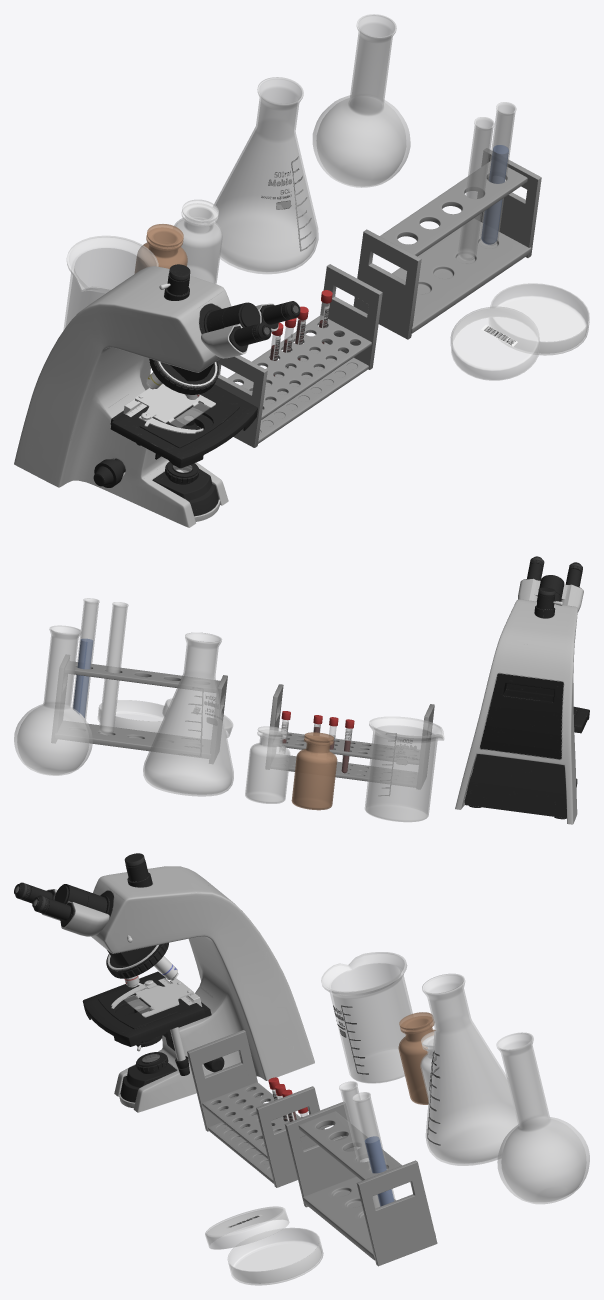
File: slide-9-3.glb
The picture shows the model from 3 angles, top to bottom: view 1: azimuth 30°, elevation 25°; view 2: azimuth 150°, elevation 25°; view 3: azimuth 270°, elevation 25°; orthographic projection. The views are drawn at different scales.
Parts seen in each view (by area): view 1: Body, Test_Tube_Holder, Conical_Flask, Small_TestTube_Stand, Florence_Flask, Plates, Petri_Dish.001, Petri_Dish.002, Beaker, White_Jar, Test_Tubes.001, Test_Tubes.002 (+11 smaller); view 2: Body, Conical_Flask, Florence_Flask, Beaker, Test_Tube_Holder, Behind, Small_TestTube_Stand, Brown_Jar, White_Jar, Test_Tubes.001, Test_Tubes.002, Petri_Dish.001 (+5 smaller); view 3: Body, Test_Tube_Holder, Conical_Flask, Small_TestTube_Stand, Florence_Flask, Beaker, Petri_Dish.001, Plates, Petri_Dish.002, Brown_Jar, Test_Tubes.002, EyePiece (+11 smaller).
Boxes of the visible parts, x1,y1,x2,y2 form: Body: (14, 266, 231, 527); Test_Tube_Holder: (353, 148, 541, 339); Conical_Flask: (213, 77, 318, 274); Small_TestTube_Stand: (214, 264, 382, 447); Florence_Flask: (312, 14, 410, 187); Plates: (110, 384, 257, 468); Petri_Dish.001: (489, 283, 589, 355); Petri_Dish.002: (450, 306, 539, 380); Beaker: (63, 235, 158, 330); White_Jar: (174, 199, 222, 283); Test_Tubes.001: (458, 117, 494, 260); Test_Tubes.002: (480, 102, 516, 246); Body: (455, 599, 577, 824); Conical_Flask: (143, 632, 233, 796); Florence_Flask: (14, 625, 92, 775); Beaker: (364, 716, 444, 822); Test_Tube_Holder: (51, 655, 227, 763); Behind: (464, 754, 566, 818); Small_TestTube_Stand: (266, 684, 434, 788); Brown_Jar: (291, 732, 337, 810); White_Jar: (245, 726, 290, 803); Test_Tubes.001: (99, 602, 128, 735); Test_Tubes.002: (72, 598, 99, 723); Petri_Dish.001: (97, 700, 166, 732); Body: (91, 866, 314, 1112); Test_Tube_Holder: (284, 1101, 437, 1266); Conical_Flask: (422, 973, 518, 1165); Small_TestTube_Stand: (187, 1030, 324, 1187); Florence_Flask: (496, 1032, 589, 1204); Beaker: (321, 952, 412, 1083); Petri_Dish.001: (227, 1227, 323, 1285); Plates: (82, 971, 211, 1050); Petri_Dish.002: (205, 1206, 289, 1249); Brown_Jar: (398, 1012, 435, 1104); Test_Tubes.002: (352, 1092, 395, 1206); EyePiece: (14, 882, 74, 927).
Size of the model in its own units: 2.04 by 0.8512 by 1.85.
Materials: 9 (3 with a texture image).
